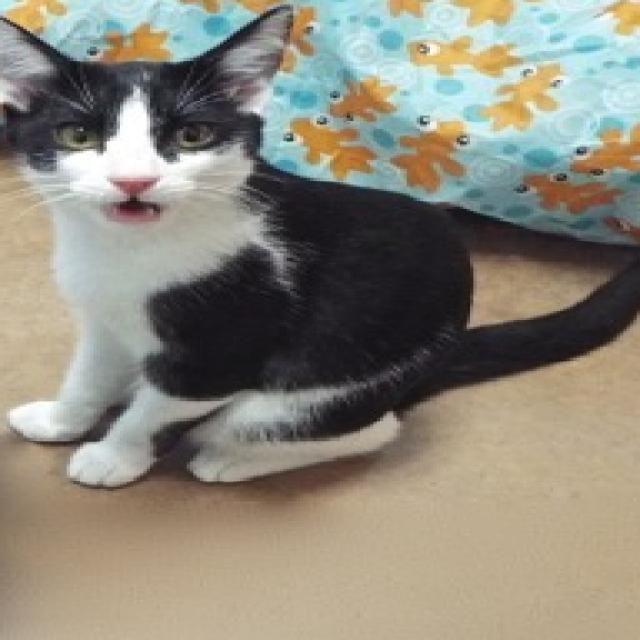Tuxedo: (0, 0, 640, 489)
